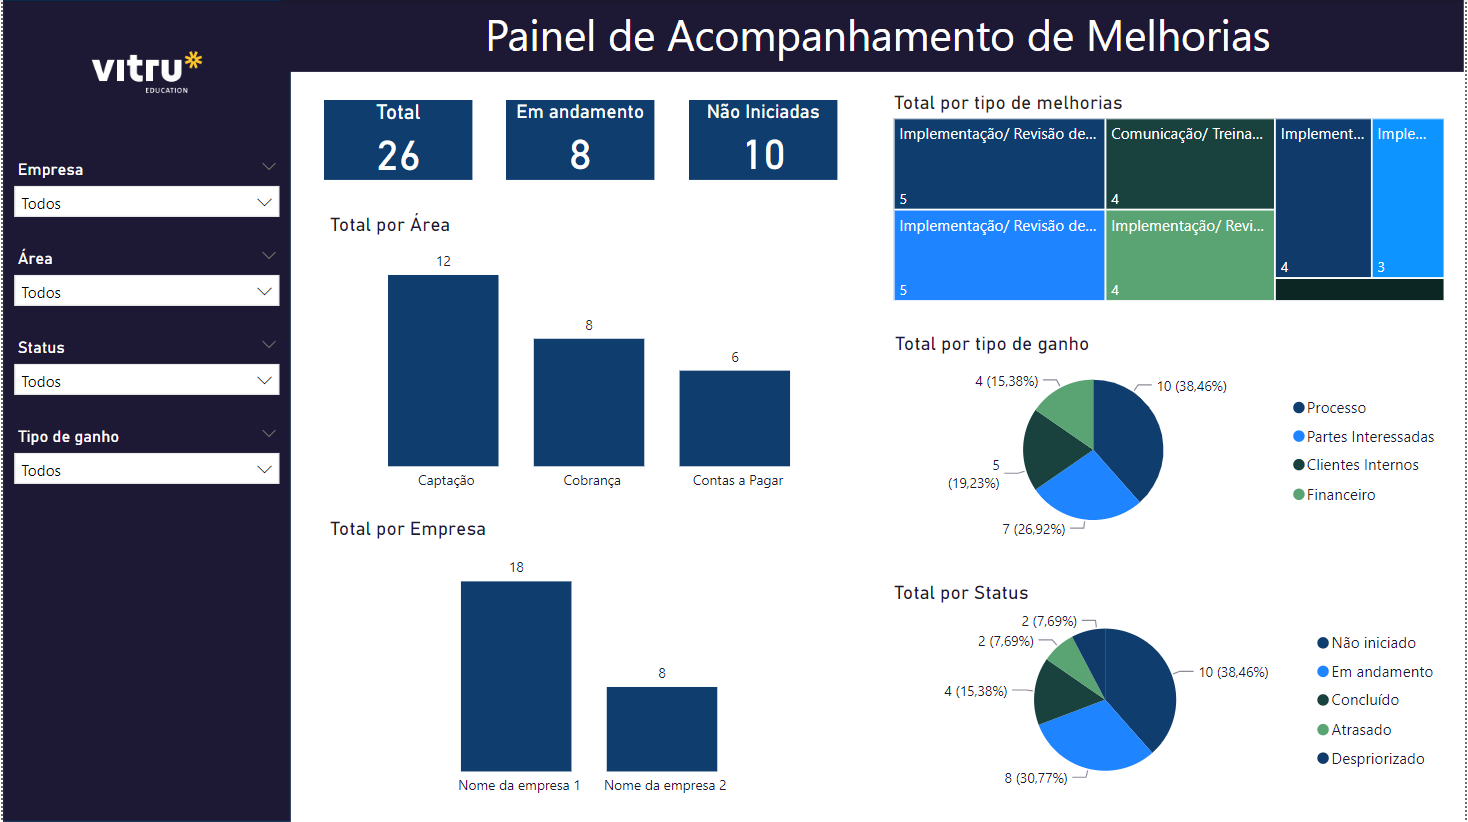

Layout of this report page (visuals, bound fields, positions):
{"tool":"powerbi","page":{"name":"Página 1","canvas":[1280,720],"ordinal":0},"visuals":[{"type":"shape","box":[0,0,251.9,719.8],"z":0},{"type":"card","title":"Total","fields":{"Values":["ft_Melhorias.m_tot_melhorias"]},"box":[281.1,87.6,130.1,70.3],"z":1000},{"type":"card","title":"Em andamento","fields":{"Values":["ft_Melhorias.m_tot_andamento"]},"box":[440.7,87.6,130,70.3],"z":2000},{"type":"card","title":"Não Iniciadas","fields":{"Values":["ft_Melhorias.m_tot_niniciada"]},"box":[600.8,87.7,130,70.2],"z":3000},{"type":"clusteredColumnChart","title":"Total por Empresa","fields":{"Category":["ft_Melhorias.Empresa"],"Y":["ft_Melhorias.m_tot_melhorias"]},"box":[281.1,453.3,469.8,252.9],"z":4000},{"type":"clusteredColumnChart","title":"Total por Área","fields":{"Category":["ft_Melhorias.Área"],"Y":["ft_Melhorias.m_tot_melhorias"]},"box":[280.8,186.8,469.7,251.9],"z":5000},{"type":"pieChart","title":"Total por Status","fields":{"Y":["ft_Melhorias.m_tot_melhorias"],"Category":["ft_Melhorias.Status"]},"box":[775.2,508.9,492.4,188.9],"z":6000},{"type":"pieChart","title":"Total por tipo de ganho","fields":{"Y":["ft_Melhorias.m_tot_melhorias"],"Category":["ft_Melhorias.Tipo de ganho"]},"box":[776.4,290.6,491.9,187.4],"z":7000},{"type":"treemap","title":"Total por tipo de melhorias","fields":{"Group":["ft_Melhorias.Tipo de Melhoria"],"Values":["ft_Melhorias.m_tot_melhorias"]},"box":[775.2,79.5,492.4,188.9],"z":8000},{"type":"slicer","fields":{"Values":["ft_Melhorias.Empresa"]},"box":[0,135.2,251.9,77.8],"z":10000},{"type":"slicer","fields":{"Values":["ft_Melhorias.Área"]},"box":[0,213,251.9,77.8],"z":11000},{"type":"slicer","fields":{"Values":["ft_Melhorias.Status"]},"box":[0,290.8,251.9,77.8],"z":12000},{"type":"slicer","fields":{"Values":["ft_Melhorias.Tipo de ganho"]},"box":[0,368.6,251.9,77.8],"z":13000},{"type":"shape","box":[243.6,0,1036.4,63],"z":14000},{"type":"textbox","box":[251.9,0,1028.1,63],"z":15000},{"type":"textbox","box":[0,0,252.3,87.6],"z":15001}]}

Visuals, with their boxes on the page's 1280x720 design canvas (x1, y1, x2, y2). These are canvas units, not pixel positions in the 1468x822 screenshot, which may show the page scaled, cropped or inside an application window:
shape: l=0, t=0, r=252, b=720
"Total" card: l=281, t=88, r=411, b=158
"Em andamento" card: l=441, t=88, r=571, b=158
"Não Iniciadas" card: l=601, t=88, r=731, b=158
"Total por Empresa" clusteredColumnChart: l=281, t=453, r=751, b=706
"Total por Área" clusteredColumnChart: l=281, t=187, r=750, b=439
"Total por Status" pieChart: l=775, t=509, r=1268, b=698
"Total por tipo de ganho" pieChart: l=776, t=291, r=1268, b=478
"Total por tipo de melhorias" treemap: l=775, t=80, r=1268, b=268
slicer - ft_Melhorias.Empresa: l=0, t=135, r=252, b=213
slicer - ft_Melhorias.Área: l=0, t=213, r=252, b=291
slicer - ft_Melhorias.Status: l=0, t=291, r=252, b=369
slicer - ft_Melhorias.Tipo de ganho: l=0, t=369, r=252, b=446
shape: l=244, t=0, r=1280, b=63
textbox: l=252, t=0, r=1280, b=63
textbox: l=0, t=0, r=252, b=88
